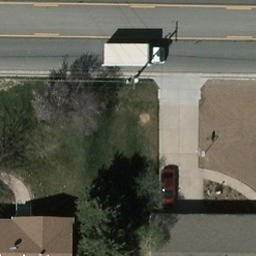car: (161, 167, 177, 208)
truck: (103, 44, 168, 66)
